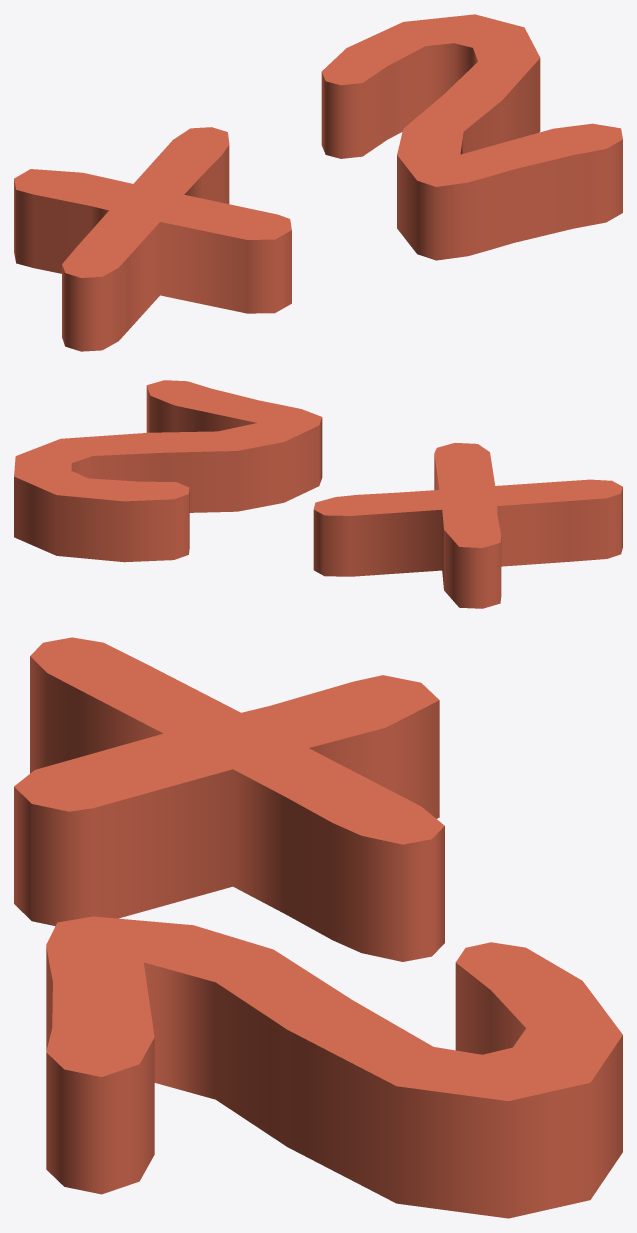
3 renders of one model, top to bottom at view 1: azimuth 30°, elevation 25°; view 2: azimuth 150°, elevation 25°; view 3: azimuth 270°, elevation 25°, orthographic. The views are drawn at different scales.
Visible parts, largest first — view 1: Text; view 2: Text; view 3: Text.
Part boxes in pixels (<box>): Text: <box>14,14,622,351</box>; Text: <box>14,380,622,608</box>; Text: <box>14,637,622,1218</box>.
Bounding box in the file's own units: 102 × 12 × 56.43.
